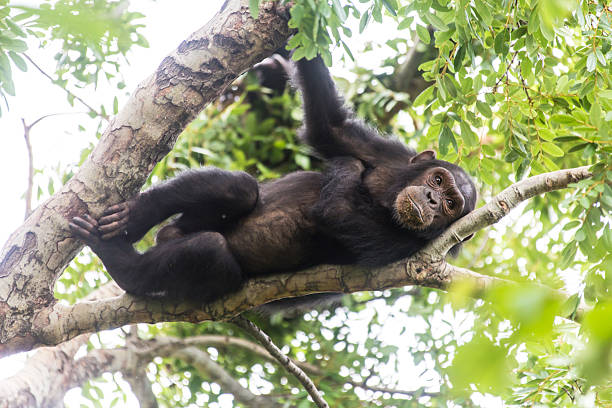chimpanzee: (369, 141, 481, 248)
